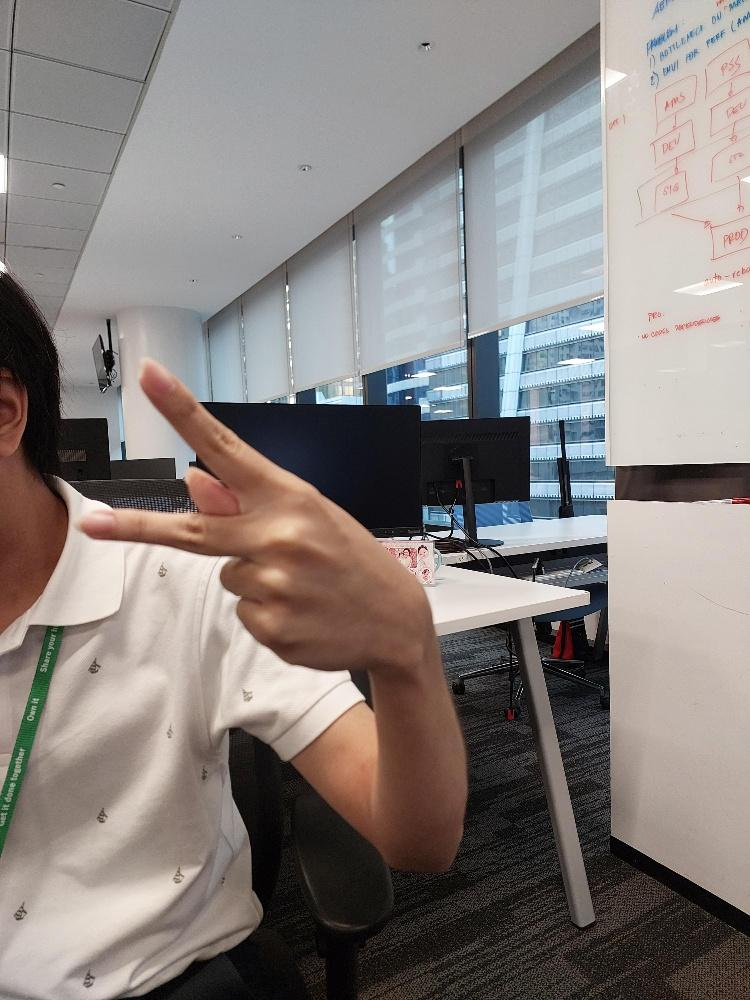k: (71, 356, 436, 669)
